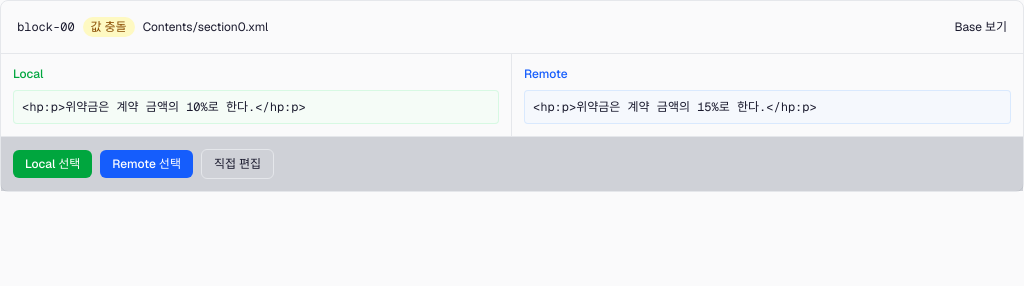
Test: ConflictResolver › "Base 보기" button toggles base content pane visibility
Check: the text "<hp:p>위약금은 계약 금액의 5%로 한다.</hp:p>" is not shown
// Click "Base 보기" to show
Click the button "Base 보기". click: (981, 27)
box: [954, 19, 1007, 35]
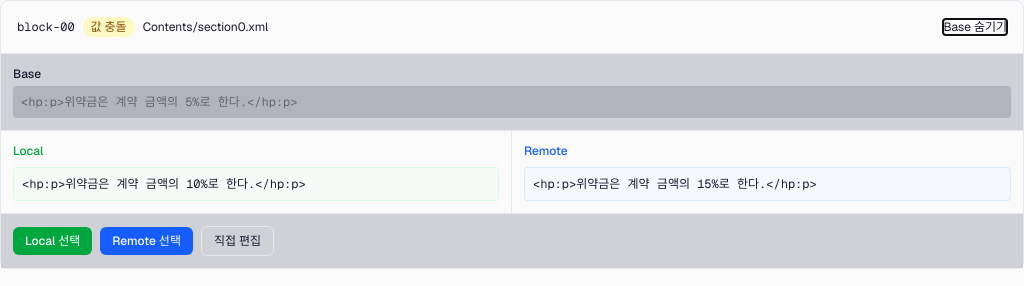
Check: the text "<hp:p>위약금은 계약 금액의 5%로 한다.</hp:p>" is shown, box [13, 86, 1011, 118]
// Click again to hide (button text changes to "Base 숨기기")
Click the button "Base 숨기기". click: (975, 27)
box: [943, 19, 1007, 35]
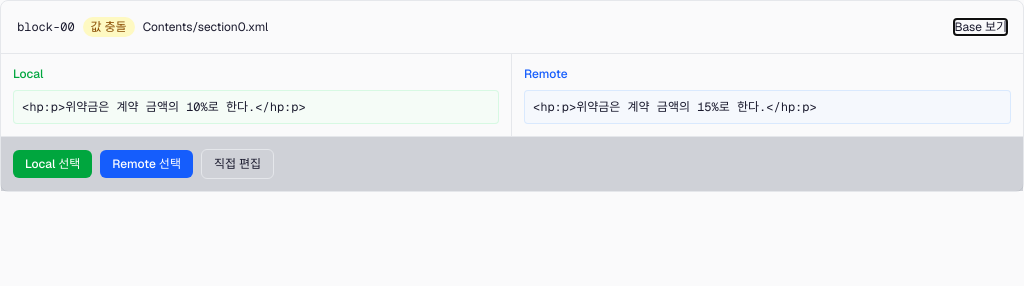
Check: the text "<hp:p>위약금은 계약 금액의 5%로 한다.</hp:p>" is gone
